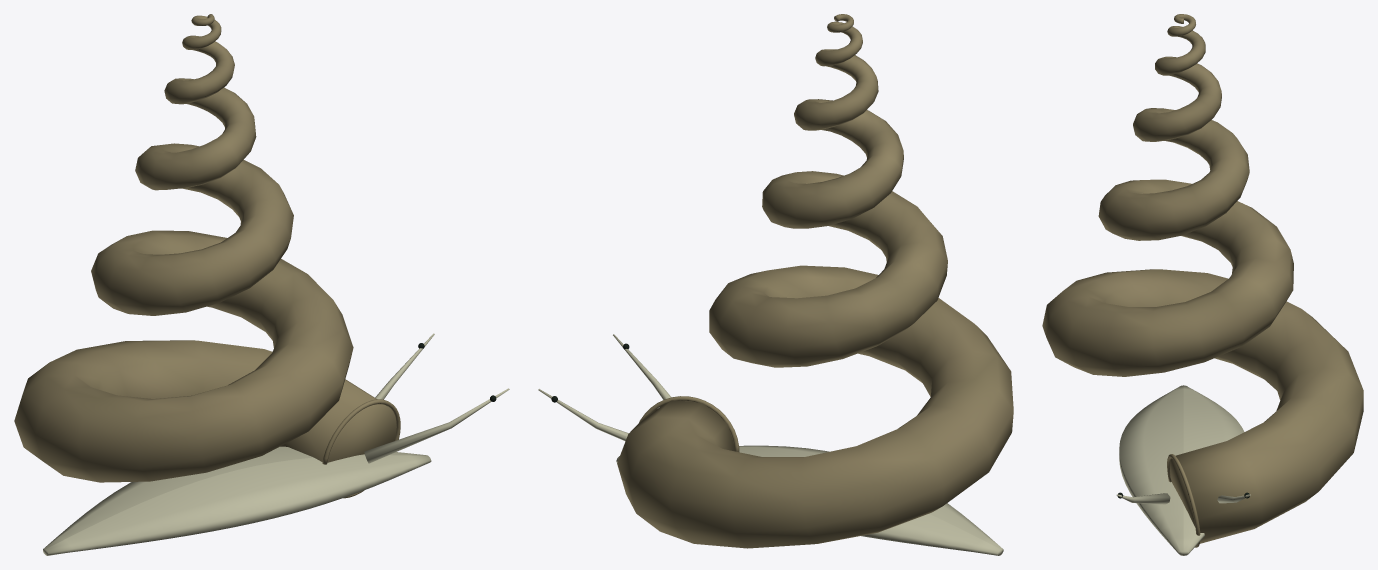
Rendered from trumpet-mobile.glb.
3 views of the same model, side by side, from view 1: azimuth 30°, elevation 25°; view 2: azimuth 150°, elevation 25°; view 3: azimuth 270°, elevation 25° (orthographic). The views are drawn at different scales.
Parts seen in each view (by area): view 1: continuous-whorled-shell, muscular-foot, cephalic-tentacle, aperture-lip; view 2: continuous-whorled-shell, muscular-foot, cephalic-tentacle, aperture-lip; view 3: continuous-whorled-shell, muscular-foot, cephalic-tentacle, aperture-lip.
Part boxes in pixels (left/top/right/bottom): continuous-whorled-shell: left=14, top=14, right=396, bottom=482; muscular-foot: left=43, top=446, right=431, bottom=555; cephalic-tentacle: left=364, top=333, right=509, bottom=463; aperture-lip: left=322, top=399, right=400, bottom=498; continuous-whorled-shell: left=617, top=14, right=1013, bottom=548; muscular-foot: left=616, top=445, right=1003, bottom=555; cephalic-tentacle: left=538, top=334, right=671, bottom=441; aperture-lip: left=639, top=396, right=739, bottom=451; continuous-whorled-shell: left=1042, top=14, right=1363, bottom=543; muscular-foot: left=1119, top=385, right=1244, bottom=555; cephalic-tentacle: left=1116, top=493, right=1250, bottom=504; aperture-lip: left=1167, top=454, right=1200, bottom=547.
Bounding box in the file's own units: 0.5911 × 0.6887 × 0.4355.
